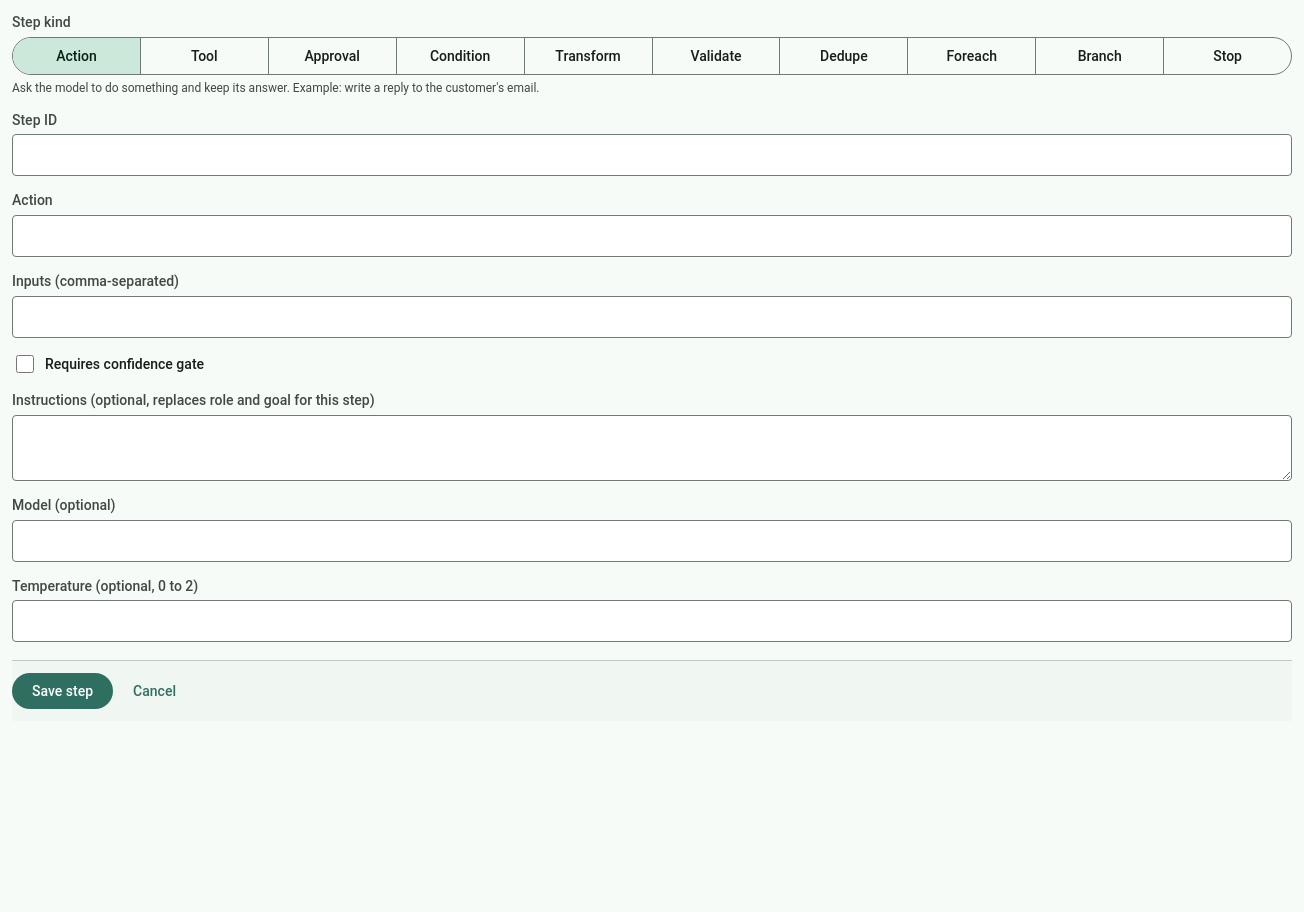
Test: Add Workflow Step kind help › Tool explains itself, with an example, once selected
Click the button "Tool": point(205, 56) [141,38,269,74]
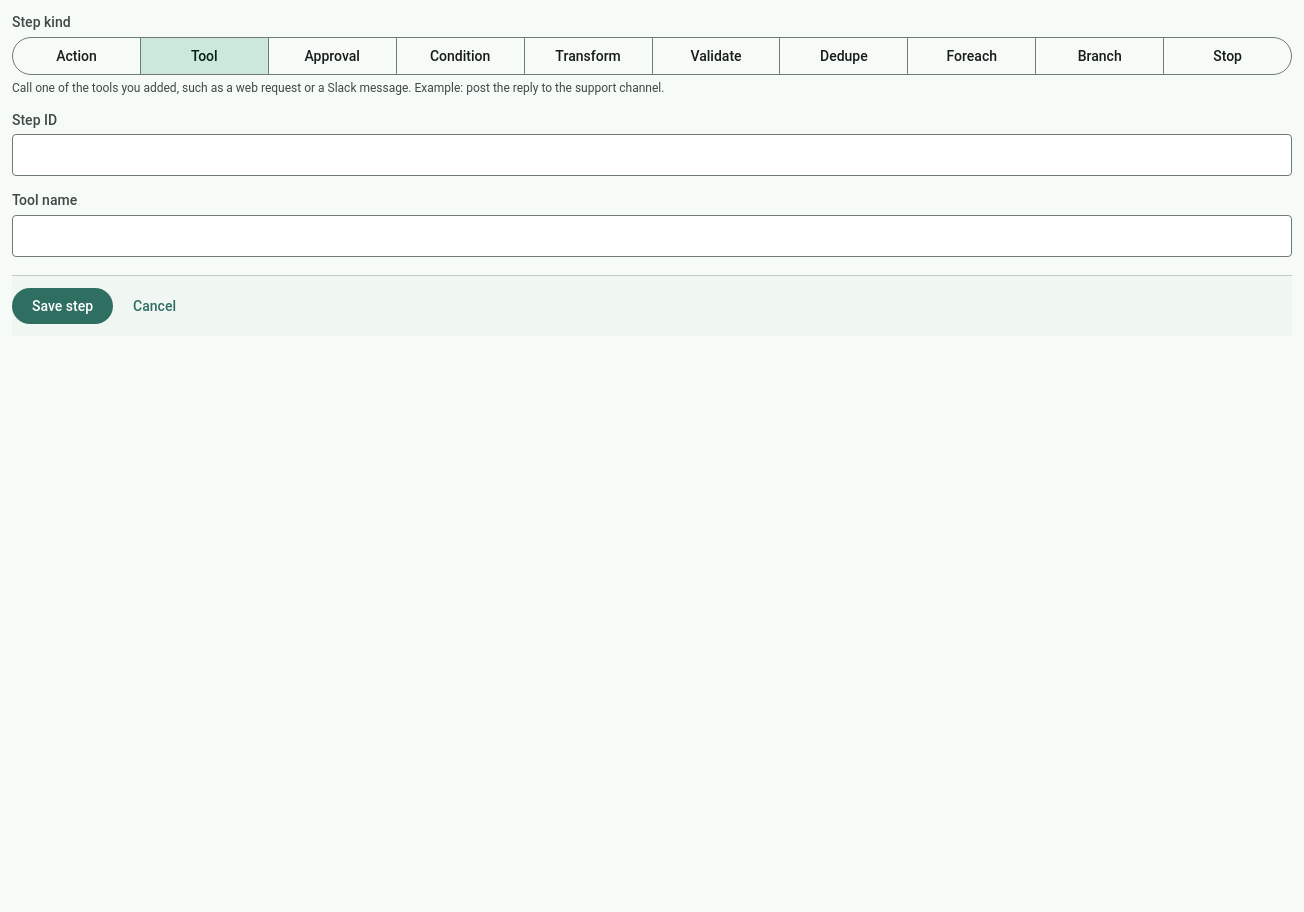
Expected: the text with test id "step-kind-help" shows "Example:", [414,81,664,95]
Expected: the text with test id "step-kind-help" shows "Call one of the tools", [12,81,412,95]
